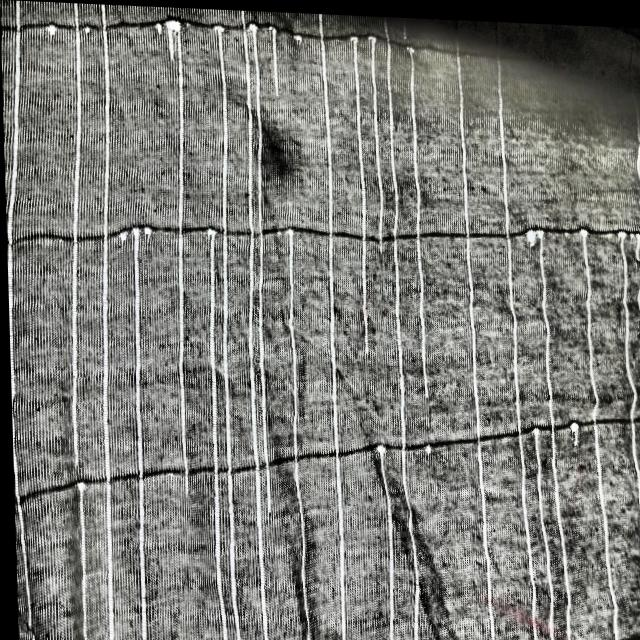Hole: (254, 105, 303, 192), (563, 403, 579, 451), (416, 434, 454, 453), (113, 218, 129, 248), (147, 15, 163, 41), (139, 217, 155, 240), (519, 220, 536, 241), (41, 20, 61, 37), (290, 26, 308, 43), (84, 22, 92, 35), (593, 639, 611, 640)
Stitch: (446, 16, 501, 640), (486, 17, 541, 640), (378, 13, 425, 640), (574, 216, 625, 640), (210, 17, 241, 640), (535, 218, 577, 640), (163, 10, 199, 502), (273, 209, 314, 640), (126, 223, 160, 640), (248, 12, 273, 511), (401, 34, 434, 400), (200, 214, 228, 640), (342, 27, 377, 359), (617, 220, 640, 640), (524, 412, 561, 640), (366, 424, 400, 640), (359, 21, 388, 248), (65, 469, 90, 640), (261, 14, 285, 102)
